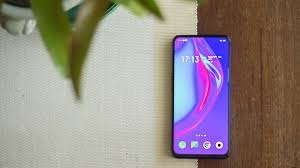oppo: (170, 31, 233, 162)
